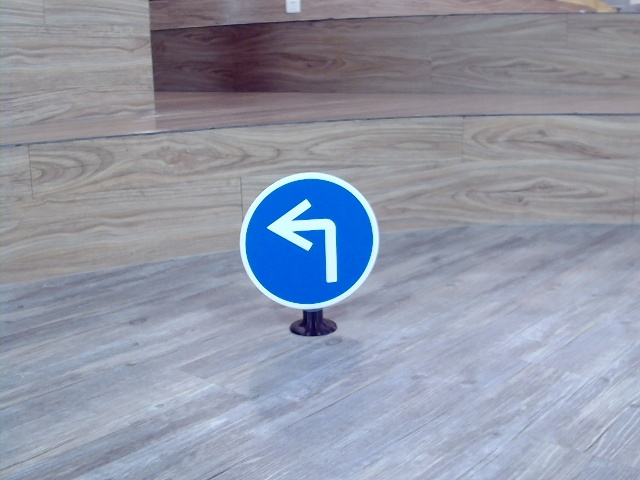turn_left: (267, 196, 347, 285)
